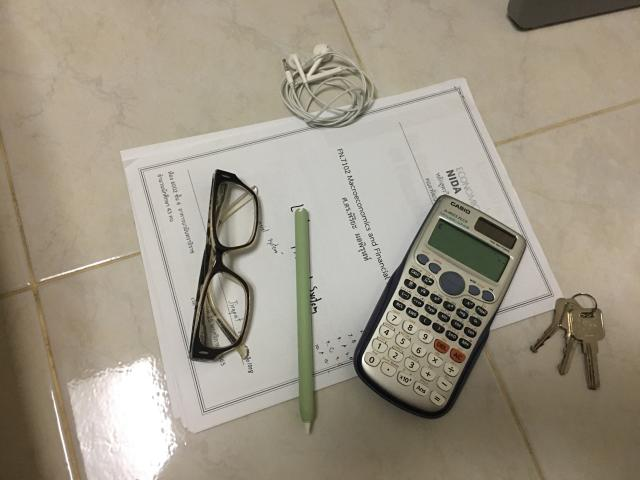Glasses: (189, 170, 259, 361)
Keys: (530, 294, 605, 390)
paper: (121, 79, 561, 431)
wire: (280, 44, 374, 128)
